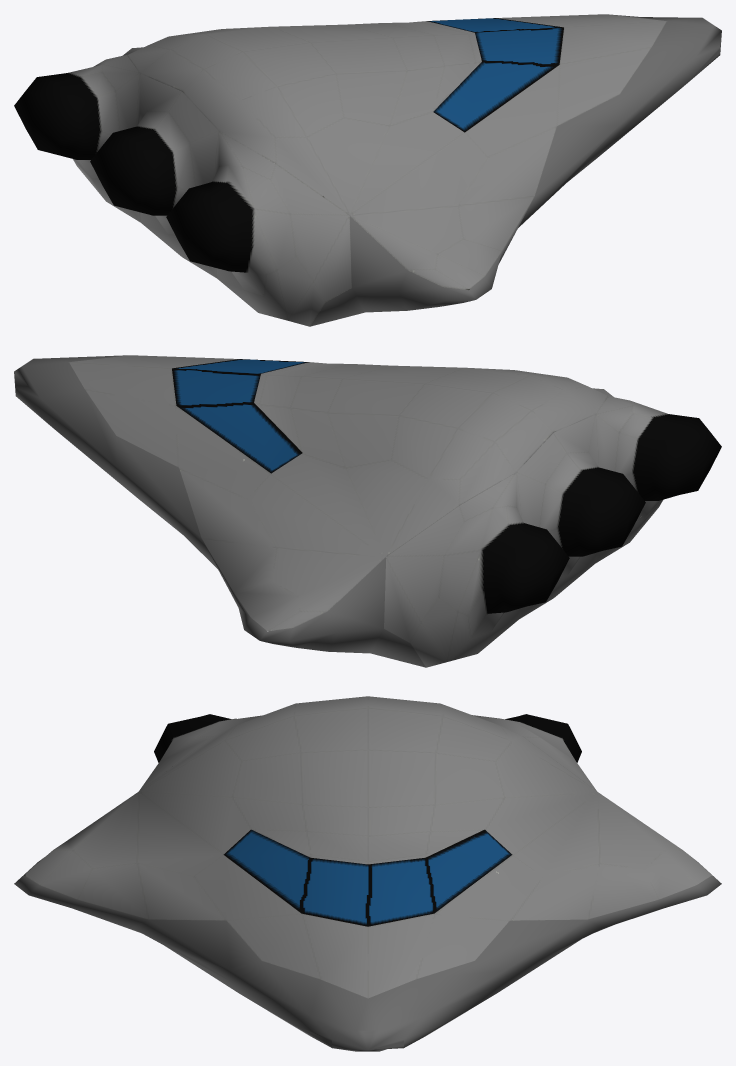
File: ship.fbx
The picture shows the model from 3 angles, top to bottom: view 1: azimuth 30°, elevation 25°; view 2: azimuth 150°, elevation 25°; view 3: azimuth 270°, elevation 25°; orthographic projection. The views are drawn at different scales.
Parts seen in each view (by area): view 1: Mesh; view 2: Mesh; view 3: Mesh.
Boxes of the visible parts, bbox=[...] form: Mesh: bbox=[14, 14, 721, 326]; Mesh: bbox=[14, 355, 721, 667]; Mesh: bbox=[14, 696, 721, 1051].
Size of the model in its own units: 3.11 by 0.9623 by 2.98.
Materials: 1 (1 with a texture image).
